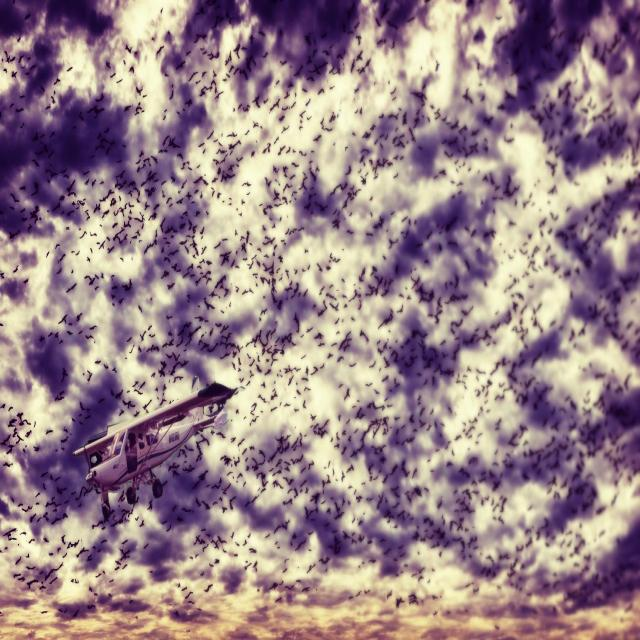airplane: (72, 380, 238, 520)
